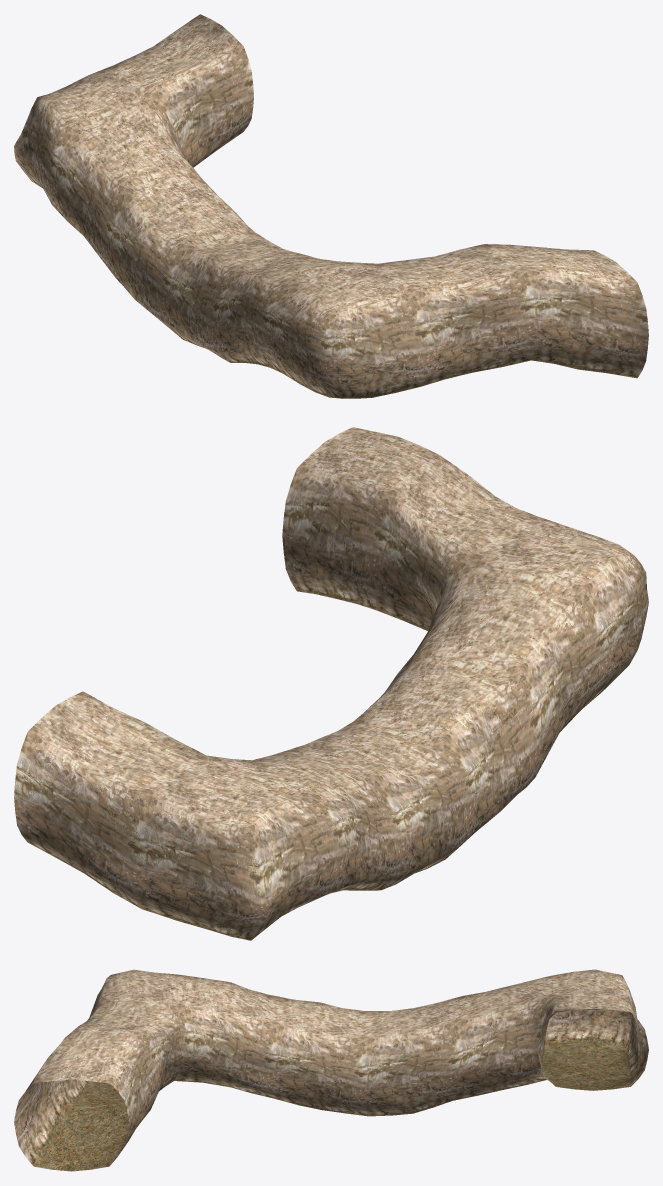
Rendered from thm_all_cave_s03_mirror_r14_mesh_r14.fbx.
3 views of the same model, one above another, from view 1: azimuth 30°, elevation 25°; view 2: azimuth 150°, elevation 25°; view 3: azimuth 270°, elevation 25° (orthographic). The views are drawn at different scales.
Parts seen in each view (by area): view 1: mesh_node; view 2: mesh_node; view 3: mesh_node.
Part boxes in pixels (<box>): mesh_node: <box>14,14,648,398</box>; mesh_node: <box>14,427,648,940</box>; mesh_node: <box>14,969,648,1171</box>.
Bounding box in the file's own units: 25.32 × 15.04 × 55.57.
